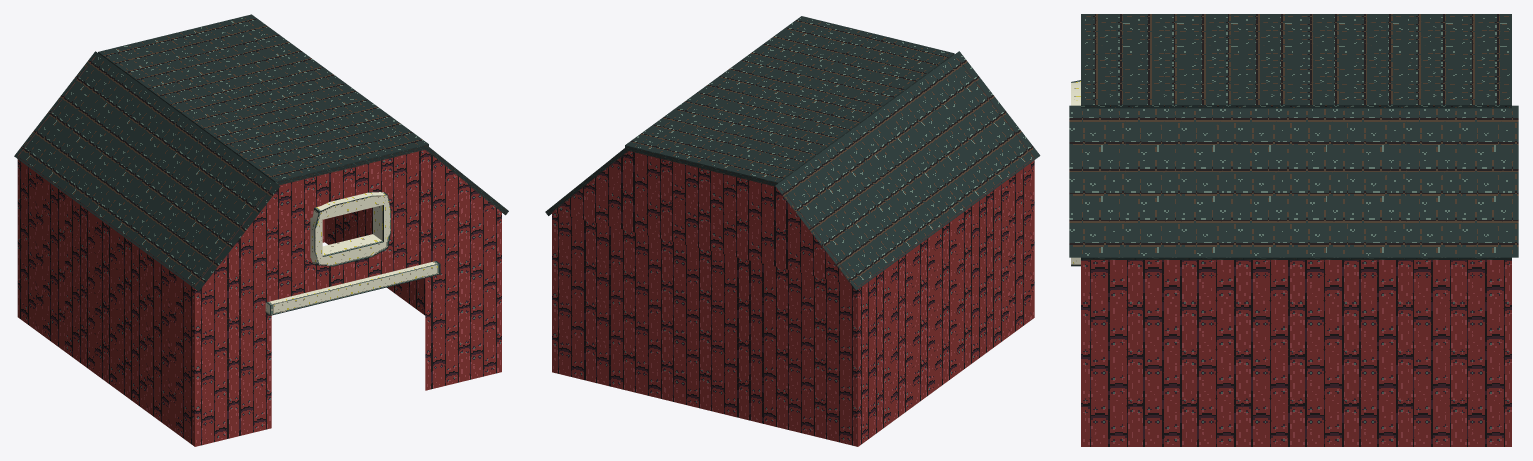
The model's file is barn.gltf.
3 renders of one model, left to right at view 1: azimuth 30°, elevation 25°; view 2: azimuth 150°, elevation 25°; view 3: azimuth 270°, elevation 25°, orthographic. The views are drawn at different scales.
Parts seen in each view (by area): view 1: Structure, Roof, Window, default; view 2: Structure, Roof; view 3: Roof, Structure.
Boxes of the visible parts, <box> form: Structure: <box>17,57,501,446</box>; Roof: <box>14,14,508,291</box>; Window: <box>310,192,390,266</box>; default: <box>265,261,440,315</box>; Structure: <box>552,59,1034,446</box>; Roof: <box>545,16,1040,290</box>; Roof: <box>1069,14,1518,259</box>; Structure: <box>1081,260,1511,446</box>.
Bounding box in the file's own units: 16.42 × 12.23 × 16.68.
1 material, 1 textured.
